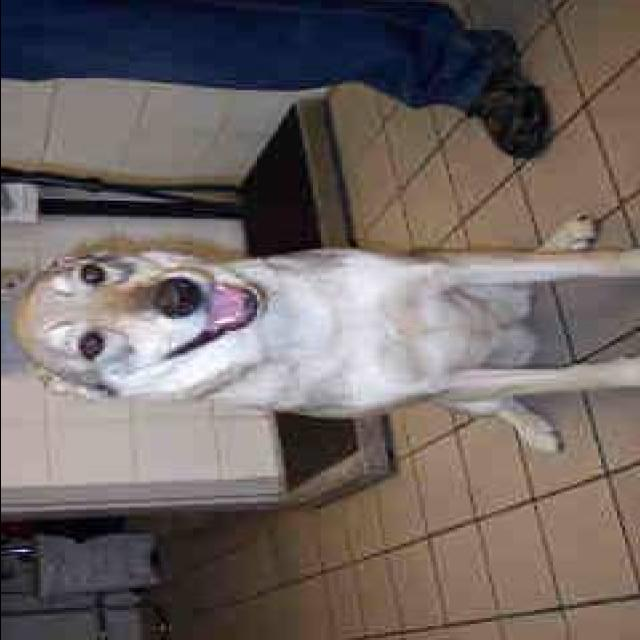dog: (20, 212, 640, 470)
